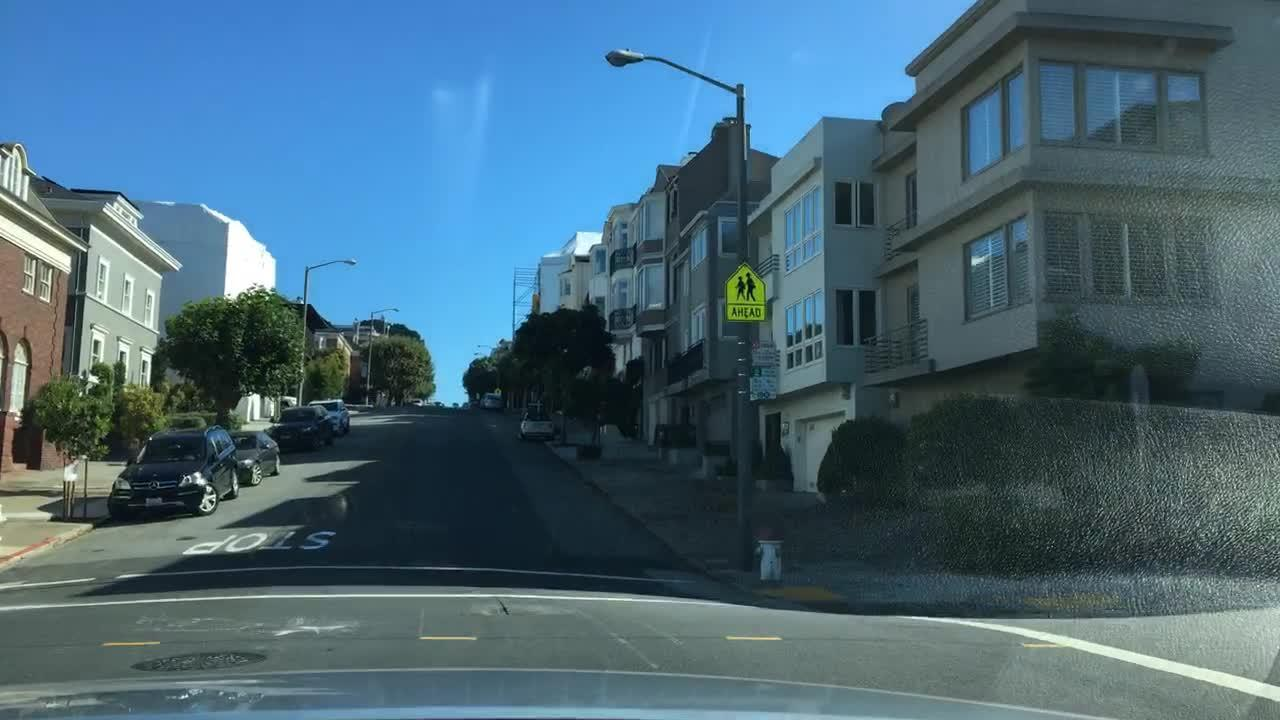Mercedes: (146, 476, 164, 492)
